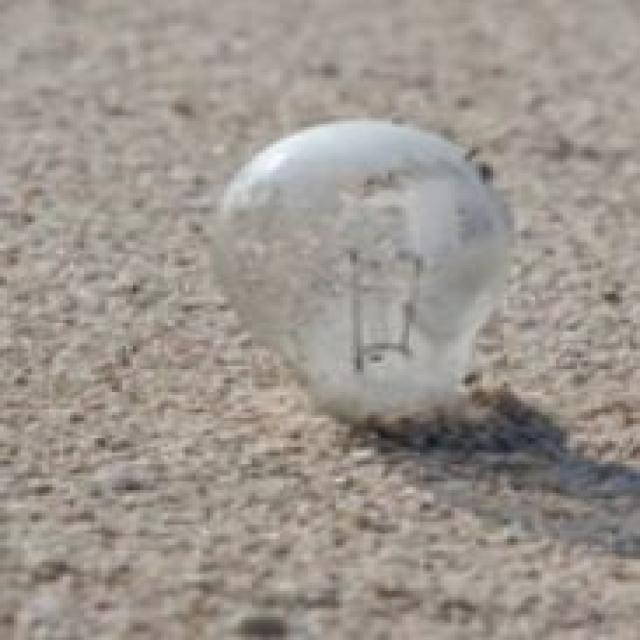electronic: (203, 116, 514, 438)
